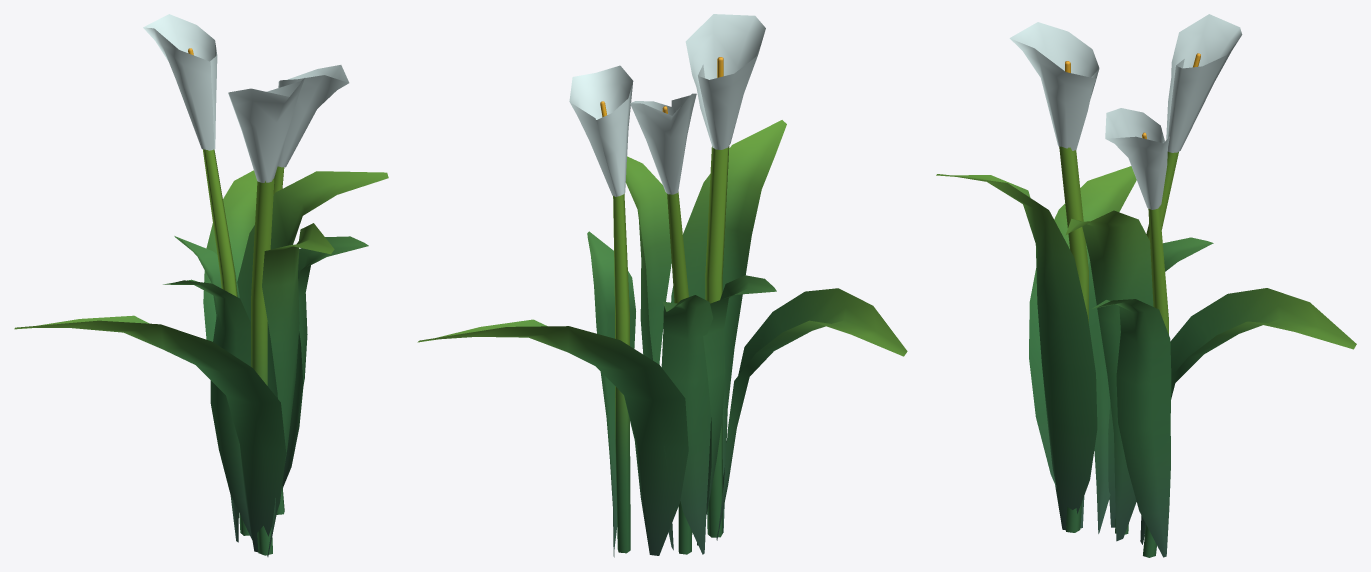
The model's file is Flower_Decoration_12.fbx.
3 renders of one model, left to right at view 1: azimuth 30°, elevation 25°; view 2: azimuth 150°, elevation 25°; view 3: azimuth 270°, elevation 25°, orthographic. The views are drawn at different scales.
Visible parts, largest first — view 1: Flower; view 2: Flower; view 3: Flower.
Part boxes in pixels (bbox=[...]): Flower: bbox=[14, 14, 388, 556]; Flower: bbox=[417, 14, 907, 557]; Flower: bbox=[936, 14, 1356, 557].
Bounding box in the file's own units: 219 × 278 × 214.
